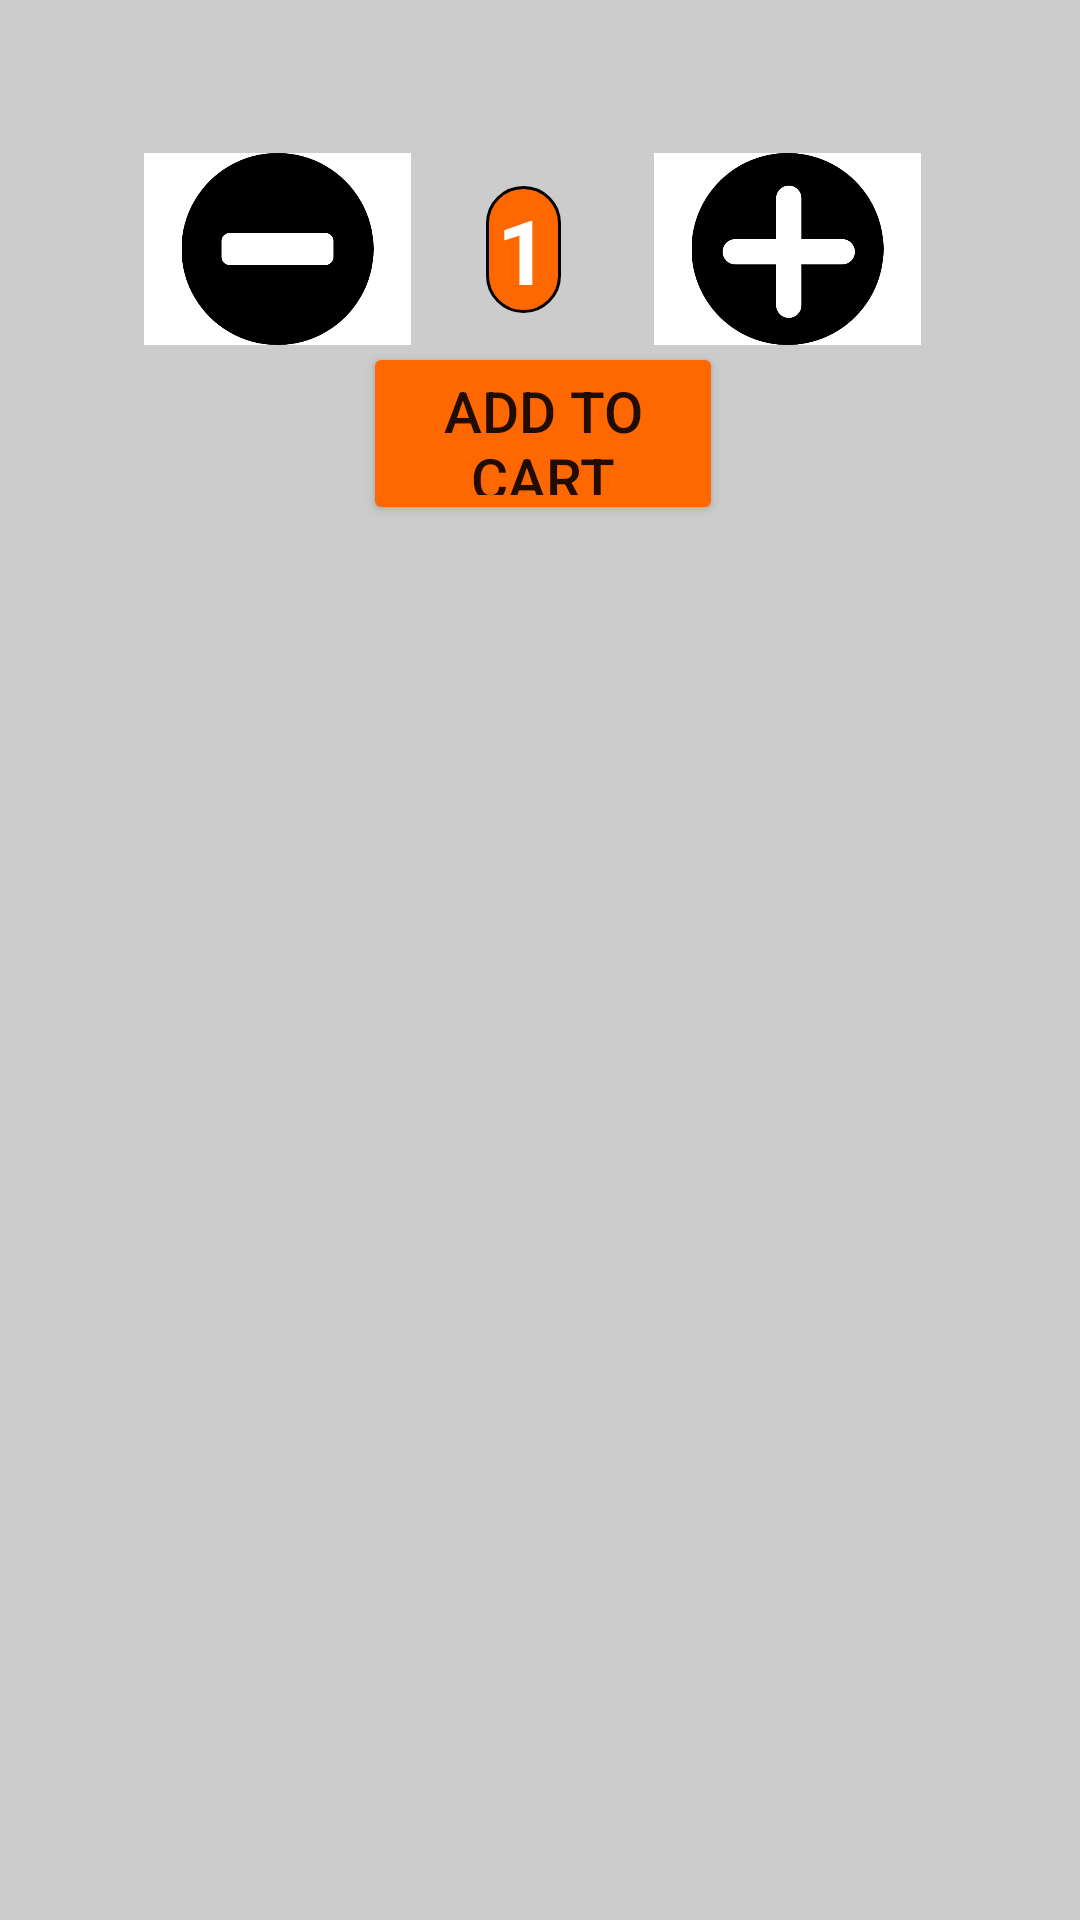

Screen size 1080*1920. Icon name, then its center in pixels as point (x, y):
minus: point (277, 249)
plus: point (787, 249)
